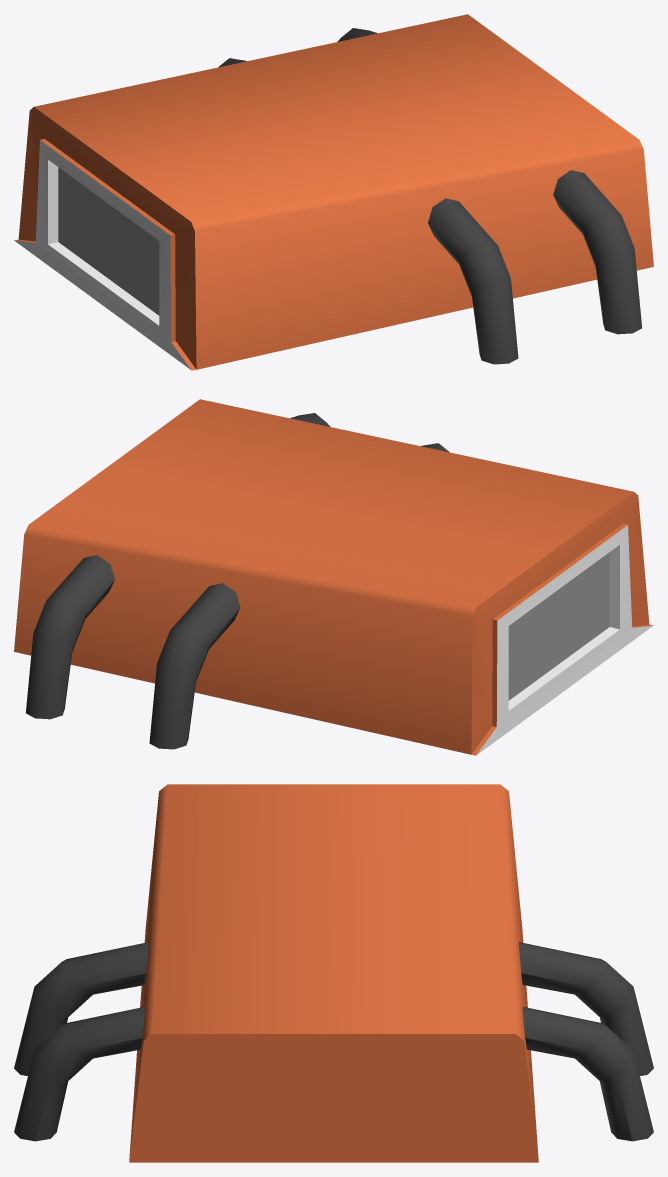
Rendered from Machine_8.fbx.
The picture shows the model from 3 angles, top to bottom: view 1: azimuth 30°, elevation 25°; view 2: azimuth 150°, elevation 25°; view 3: azimuth 270°, elevation 25°; orthographic projection. The views are drawn at different scales.
Visible parts, largest first — view 1: Machine_8; view 2: Machine_8; view 3: Machine_8.
Boxes of the visible parts, x1,y1,x2,y2 form: Machine_8: (14,14,653,370); Machine_8: (14,399,653,755); Machine_8: (14,784,653,1162).
Size of the model in its own units: 966 by 302 by 1113.
